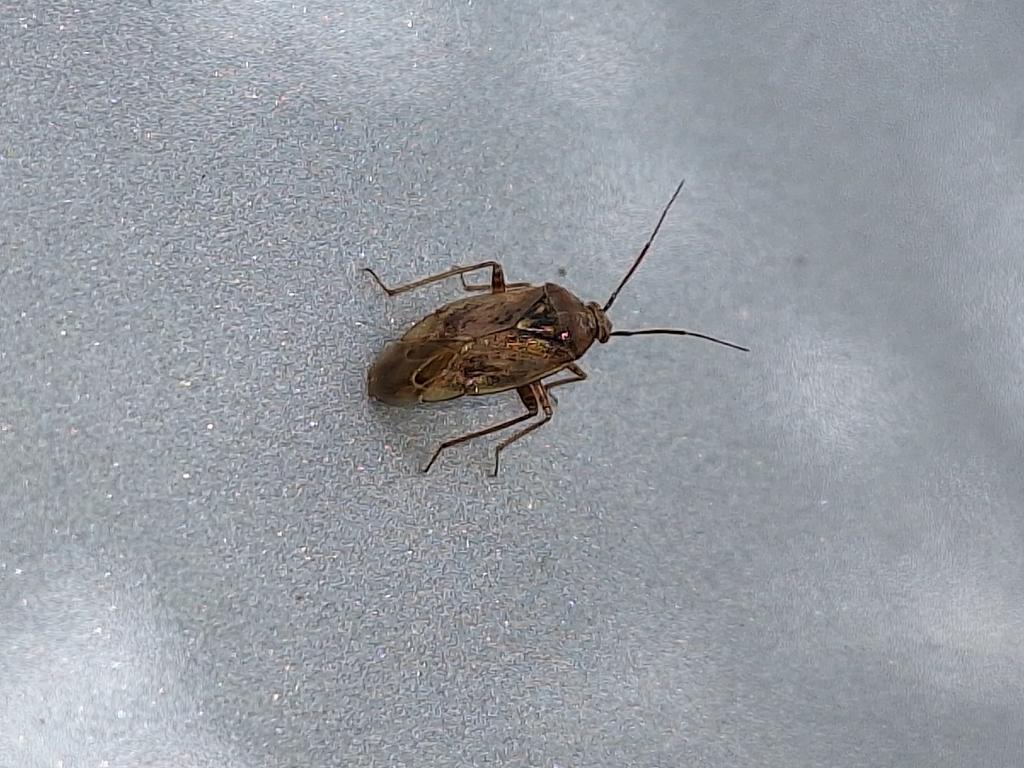plant_bugs: (289, 159, 781, 521)
